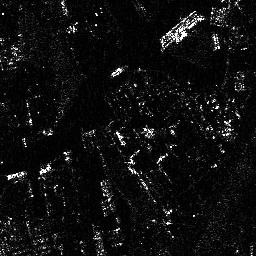ship: (110, 64, 129, 78)
